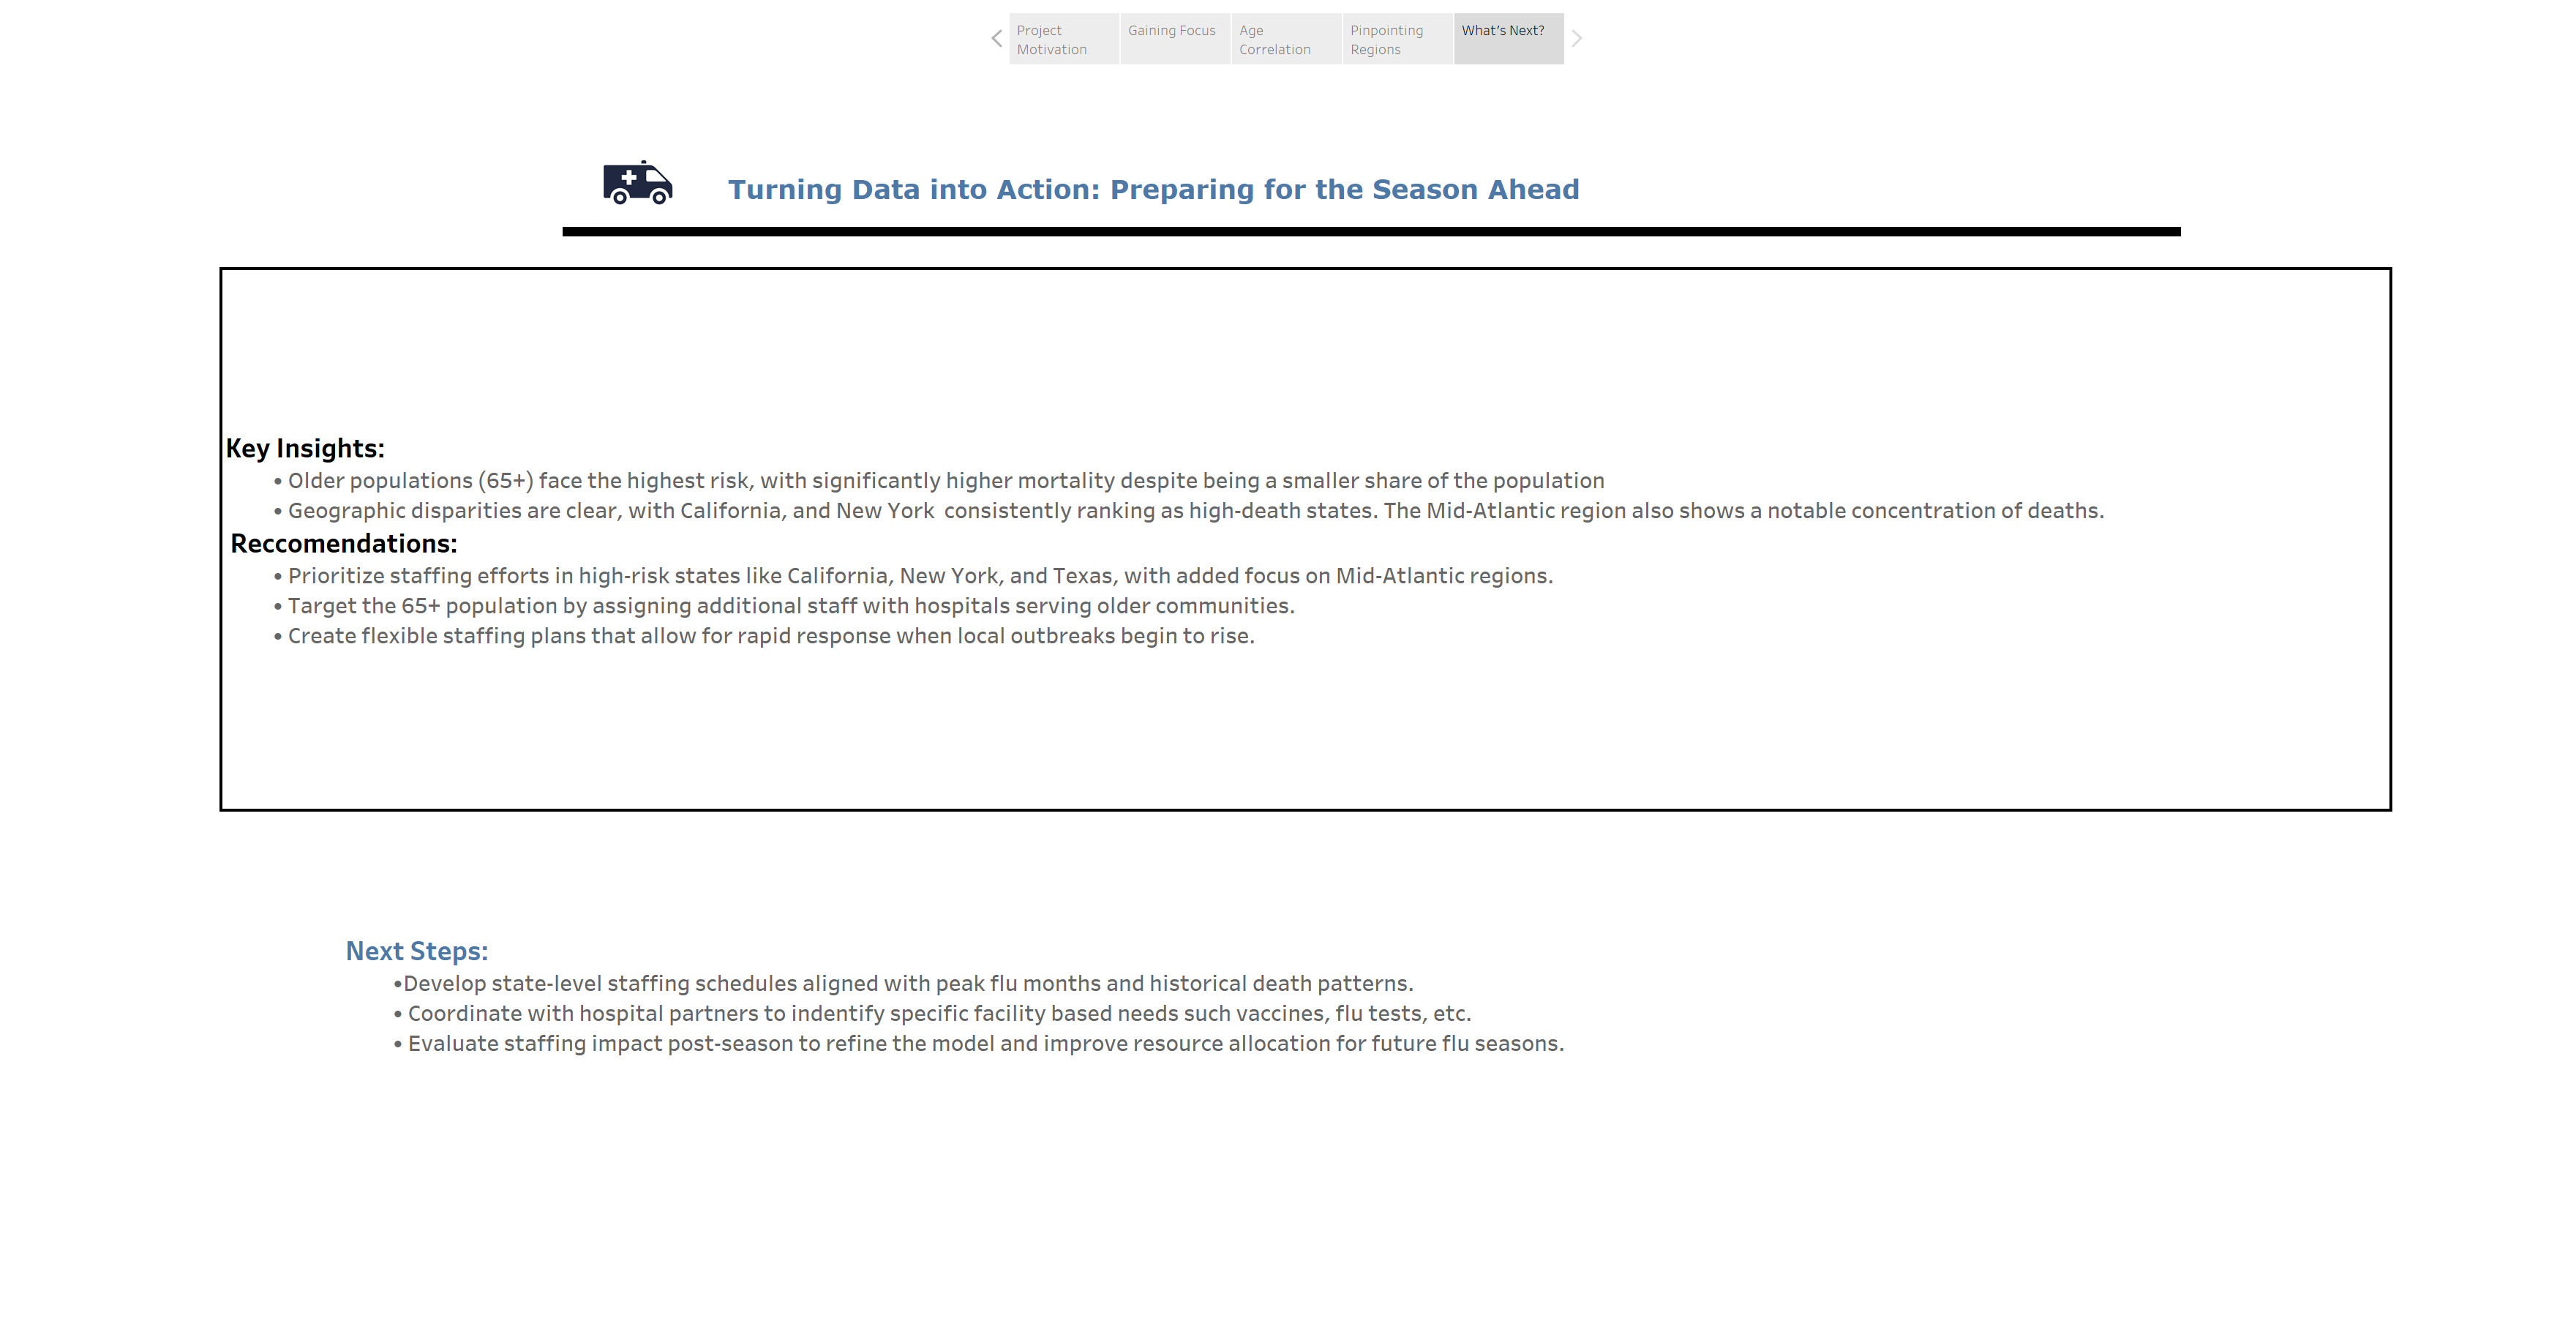

The page's visual inventory and layout, read from the dashboard file:
{"tool":"tableau","page":{"name":"Final","canvas":[1000,1000],"units":"permille","ordinal":3},"visuals":[{"type":"text","box":[281.2,20.5,559.7,134.7]},{"type":"image","param":"C:/Users/drbar/Pictures/Stock Images/Medical/AdobeStock_151266003.JPG","box":[230.4,47.7,41,69]},{"type":"text","box":[84.2,150.9,846.7,436.5]},{"type":"text","box":[131.9,606.1,777.2,255.8]}]}

Visuals, with their boxes on the dashboard's canvas, which has no fixed pixel size, in thousandths of its width and height (x1, y1, x2, y2). These are canvas units, not pixel positions in the 2576x1332 screenshot, which may show the page scaled, cropped or inside an application window:
text: <box>281,20,841,155</box>
image: <box>230,48,271,117</box>
text: <box>84,151,931,587</box>
text: <box>132,606,909,862</box>
